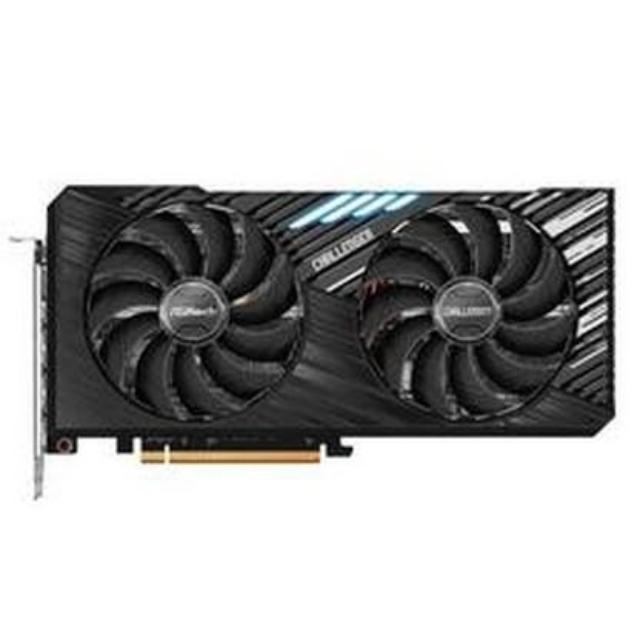GPU: (37, 178, 631, 466)
